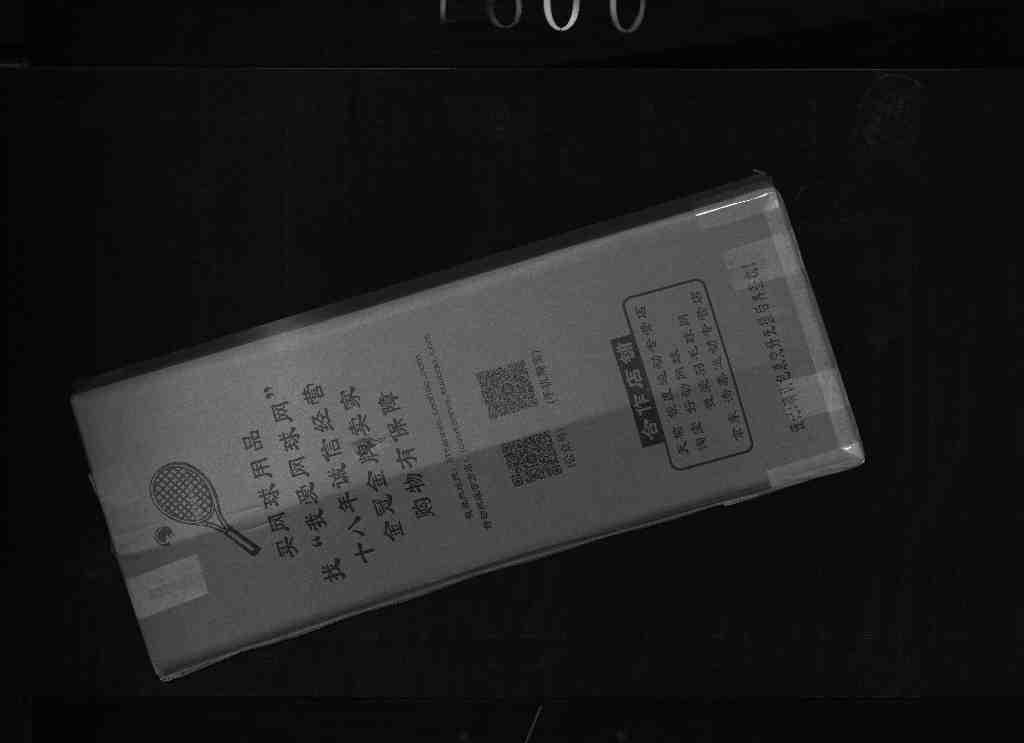box: (79, 154, 878, 676)
